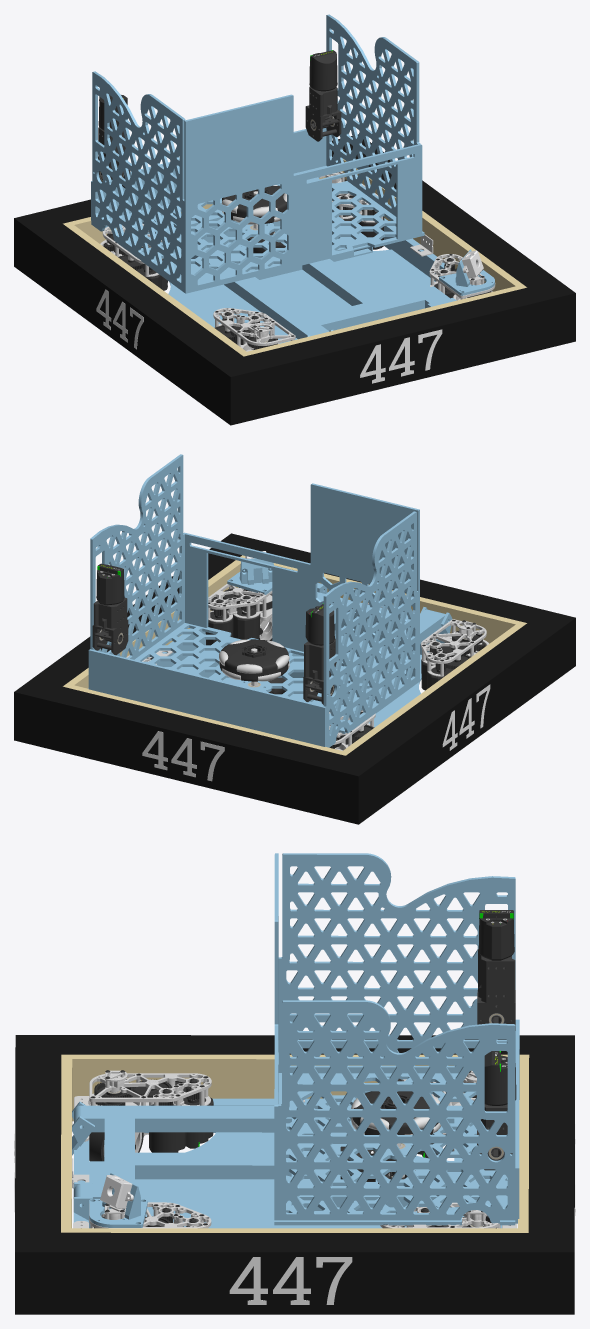
The picture shows the model from 3 angles, top to bottom: view 1: azimuth 30°, elevation 25°; view 2: azimuth 150°, elevation 25°; view 3: azimuth 270°, elevation 25°; orthographic projection. The views are drawn at different scales.
Parts seen in each view (by area): view 1: Part 1 (×18), MK4n Top Plate B, 6" DuraOmni Wheel (1.125" Bearing Bore), Kraken X60 Brushless Motor, MAX 90 Degree Gearbox (REV), MAXPlanetary (Block), MK4n Top Plate A; view 2: Part 1 (×16), Kraken X60 Brushless Motor (×3), 6" DuraOmni Wheel (1.125" Bearing Bore), MAXPlanetary (Block) (×2), MAX 90 Degree Gearbox (REV) (×2), MK4n Top Plate B, MK4n Top Plate A; view 3: Part 1 (×20), Kraken X60 Brushless Motor (×3), MK4n Top Plate B (×2), MAXPlanetary (Block), 6" DuraOmni Wheel (1.125" Bearing Bore), MK4n Top Plate A, MAX 90 Degree Gearbox (REV), FusionComponent, Part 2.
Part boxes in pixels (<box>): Part 1 (×18): <box>14,14,575,425</box>; MK4n Top Plate B: <box>213,308,295,345</box>; 6" DuraOmni Wheel (1.125" Bearing Bore): <box>221,185,286,224</box>; Kraken X60 Brushless Motor: <box>309,50,337,91</box>; MAX 90 Degree Gearbox (REV): <box>305,105,341,141</box>; MAXPlanetary (Block): <box>309,86,337,116</box>; MK4n Top Plate A: <box>429,254,495,298</box>; Part 1 (×16): <box>14,454,575,824</box>; Kraken X60 Brushless Motor (×3): <box>96,563,334,645</box>; 6" DuraOmni Wheel (1.125" Bearing Bore): <box>219,639,289,681</box>; MAXPlanetary (Block) (×2): <box>93,598,336,679</box>; MAX 90 Degree Gearbox (REV) (×2): <box>92,619,334,704</box>; MK4n Top Plate B: <box>421,619,486,663</box>; MK4n Top Plate A: <box>208,584,272,609</box>; Part 1 (×20): <box>15,853,574,1314</box>; Kraken X60 Brushless Motor (×3): <box>149,910,516,1152</box>; MK4n Top Plate B (×2): <box>89,1073,499,1228</box>; MAXPlanetary (Block): <box>478,949,515,1002</box>; 6" DuraOmni Wheel (1.125" Bearing Bore): <box>351,1091,440,1134</box>; MK4n Top Plate A: <box>89,1202,211,1228</box>; MAX 90 Degree Gearbox (REV): <box>477,990,515,1030</box>; FusionComponent: <box>100,1175,133,1208</box>; Part 2: <box>273,1257,310,1304</box>.
Bounding box in the file's own units: 0.857 × 0.5586 × 0.9332.
